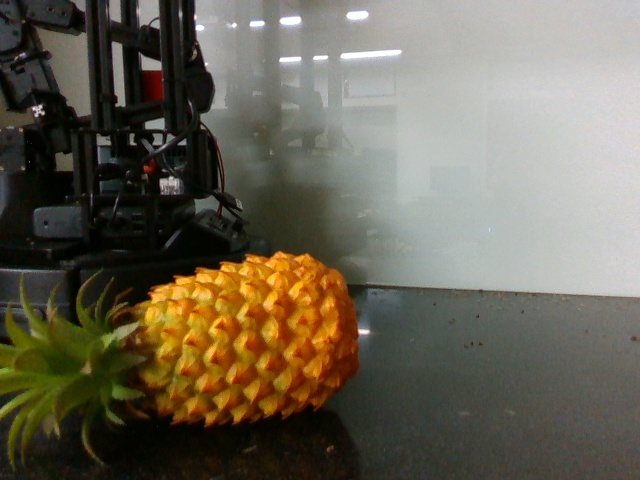pineapple: (5, 241, 361, 449)
